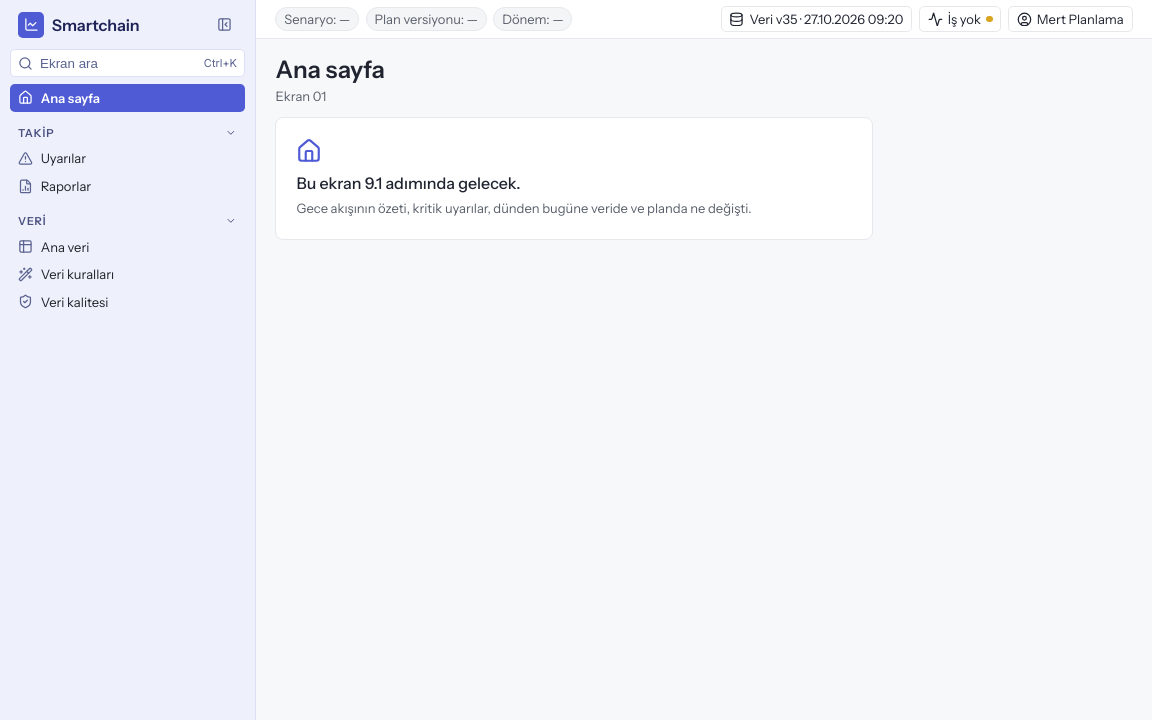
Test case: bağlam çubuğunda ayrı rol etiketi yok; rol kullanıcı menüsünde
This screenshot has width=1152, height=720.
Step 1. Click the button with aria-label "Kullanıcı menüsü" → (1070, 19), box [1008,6,1132,32]
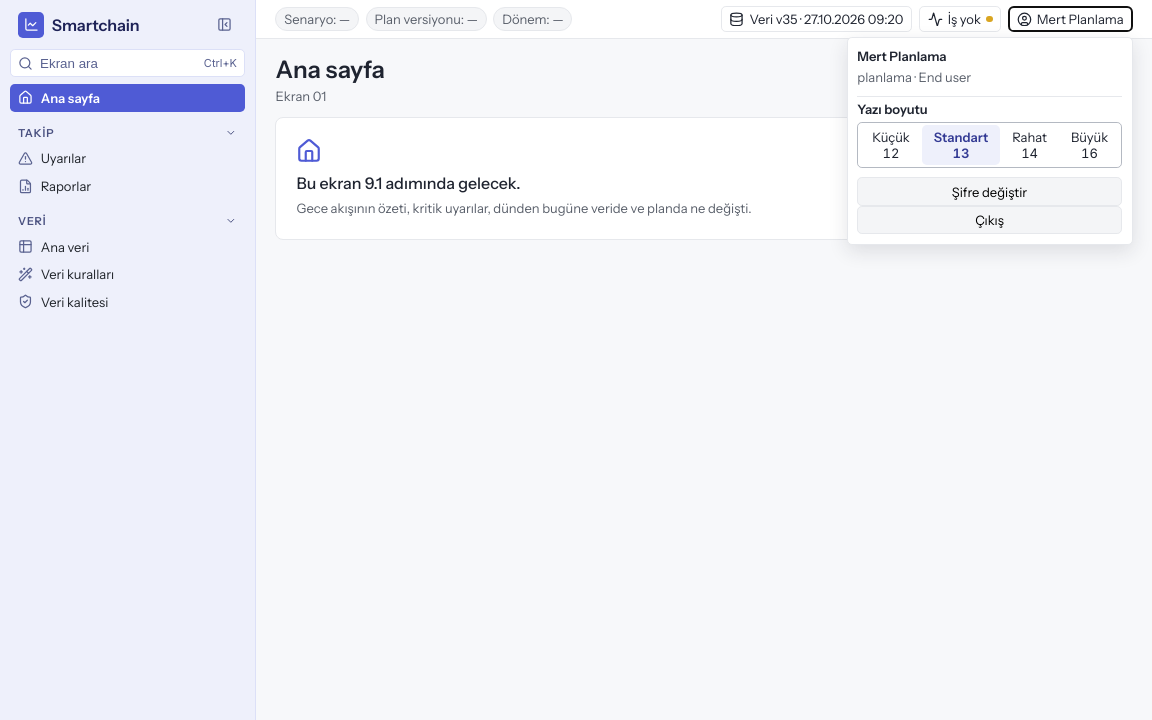
Now the dialog named "Kullanıcı menüsü" shows "End user", box [918,69,971,85]
